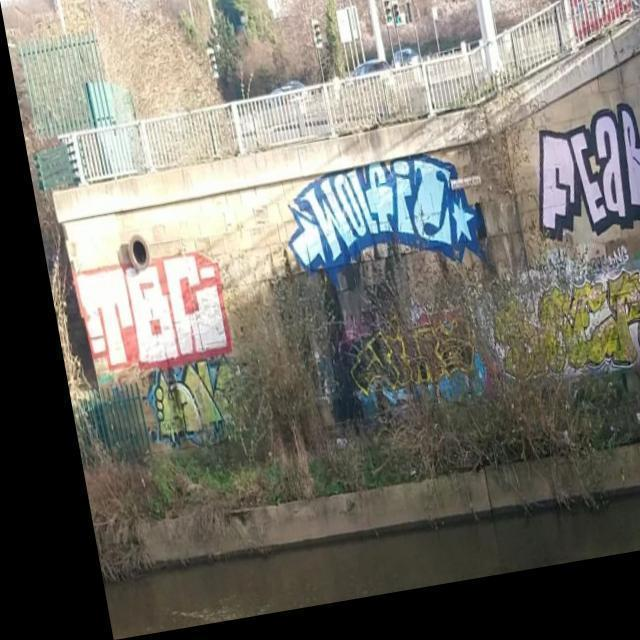nonspitting: (287, 156, 491, 270), (68, 252, 230, 362), (504, 273, 640, 372), (539, 105, 640, 236), (354, 310, 492, 405), (152, 365, 232, 438)
